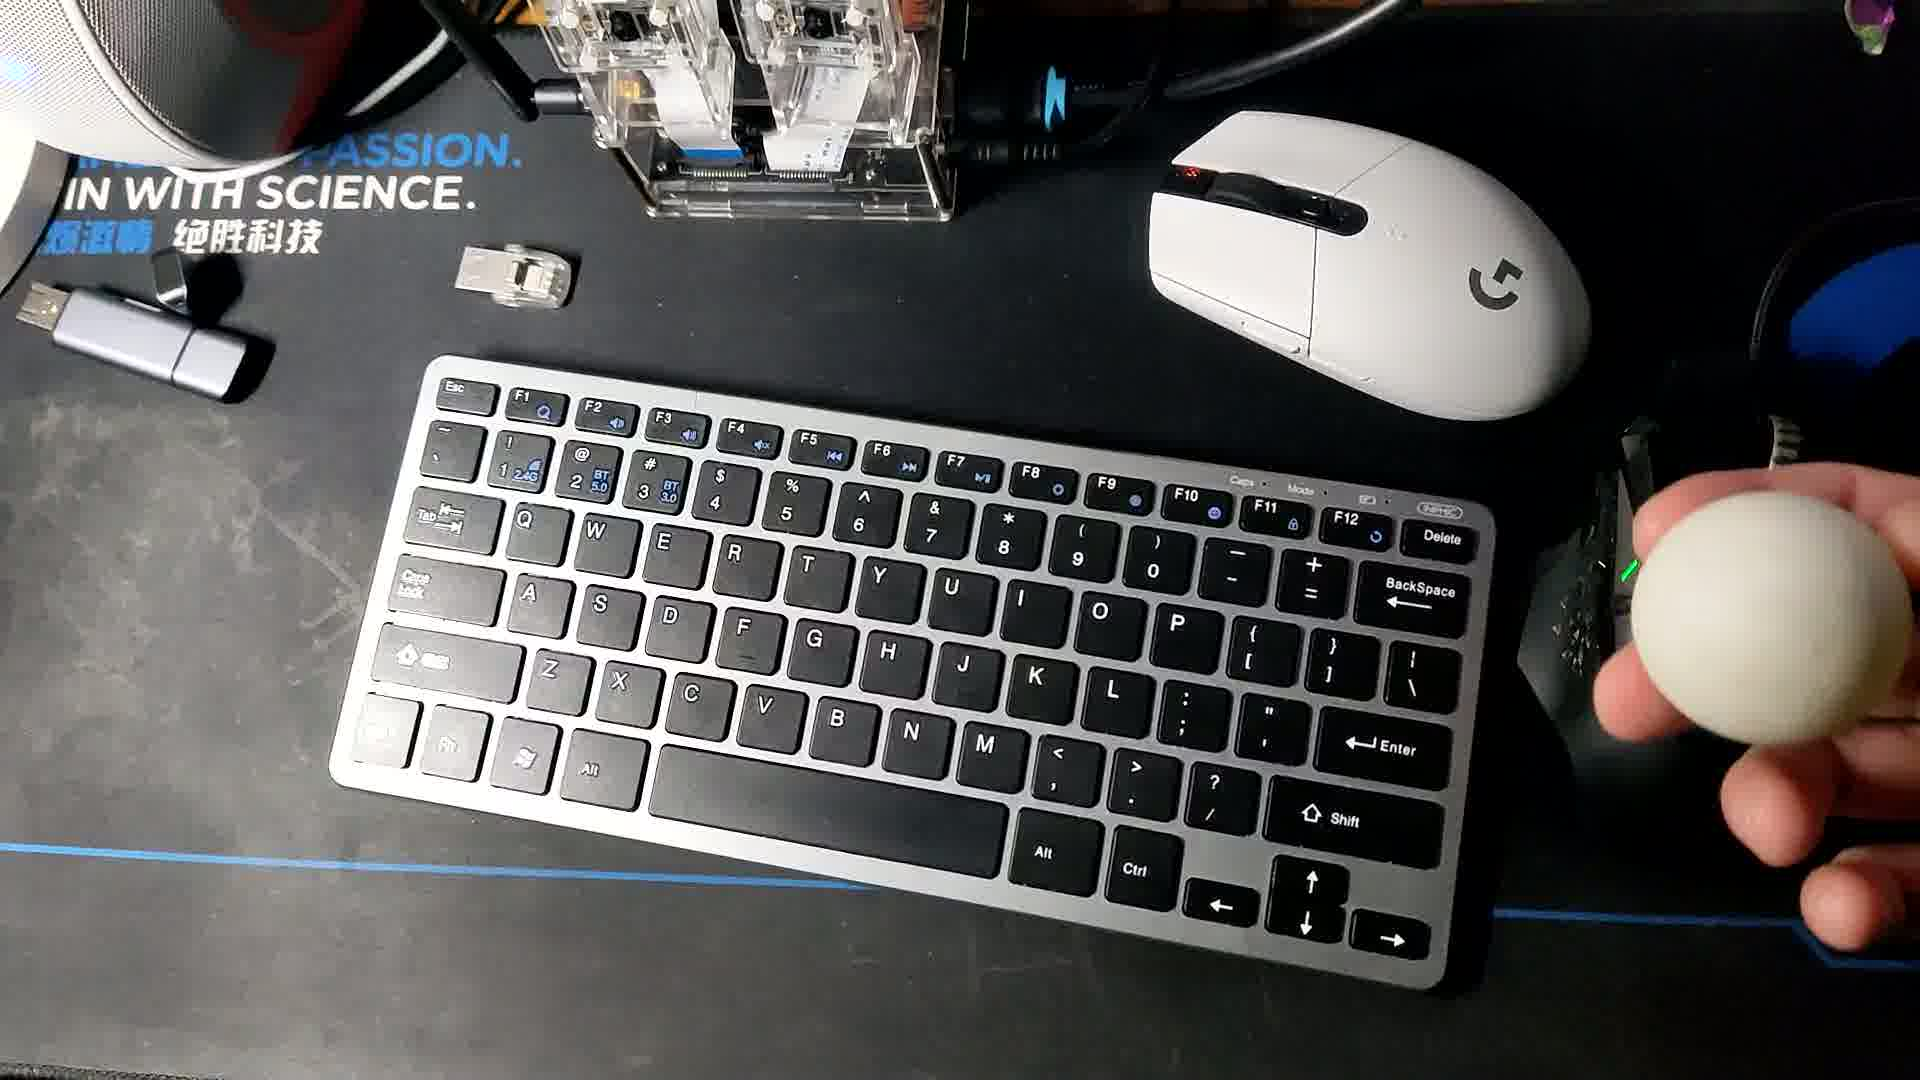Ball: (1626, 485, 1911, 744)
